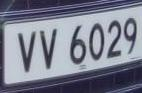0: (88, 18, 107, 67)
2: (106, 15, 123, 63)
6: (68, 20, 89, 71)
9: (122, 13, 139, 59)
V: (16, 26, 40, 75), (37, 24, 60, 71)
